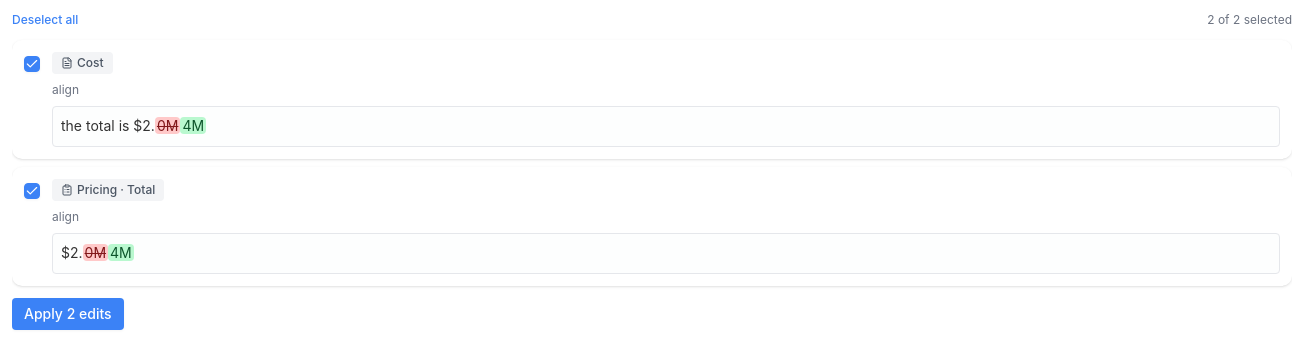
Test case: ProposalRunView — select all / deselect all › "Deselect all" clears every selection and disables Apply
The width and height of the screenshot is (1304, 347).
Click the button "Deselect all": (45, 20) [12,12,78,28]
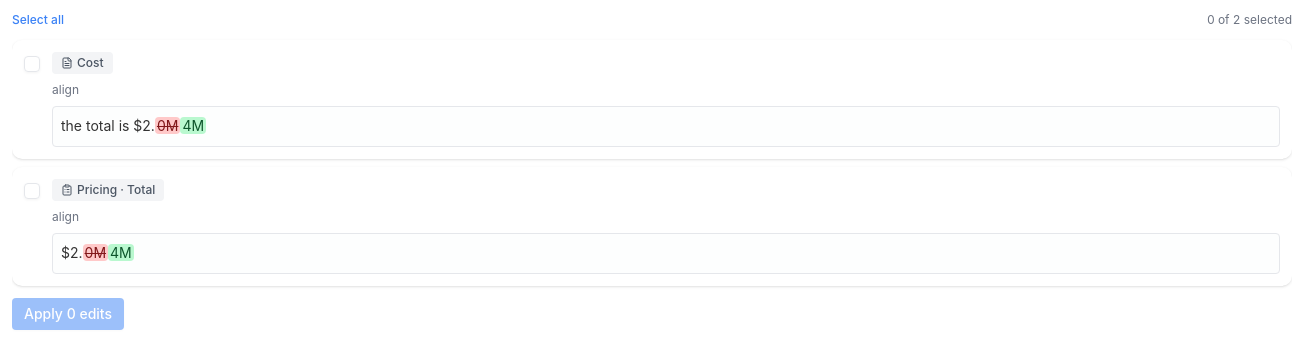
Expected: the button "Select all" is shown, [12,12,64,28]
Result: the text "0 of 2 selected" is shown at [1207,12,1292,28]
Result: the button "Apply 0 edits" is disabled at [12,298,124,330]
